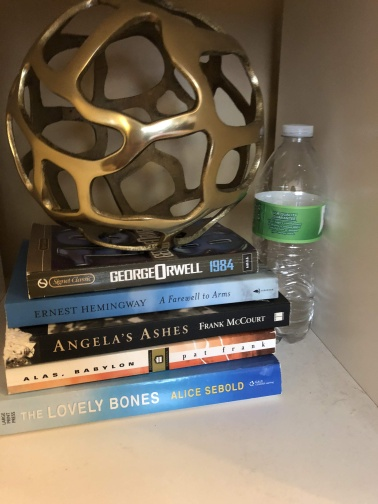bottle: (246, 121, 328, 346)
